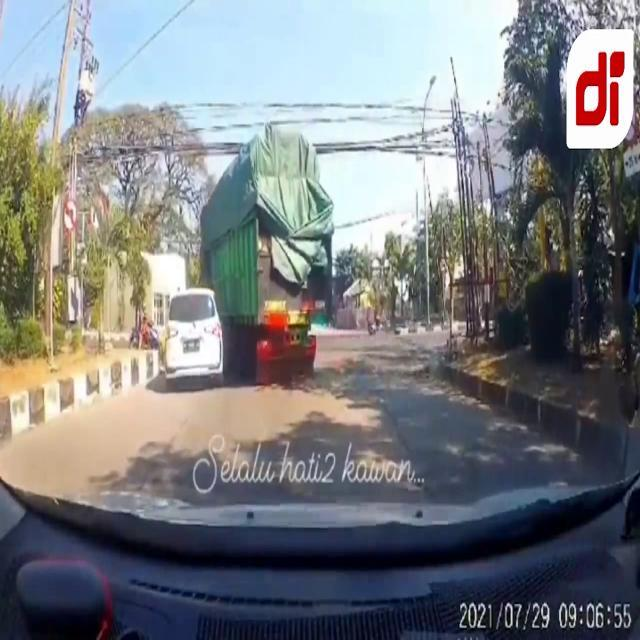multiple_accident: (122, 110, 342, 416)
